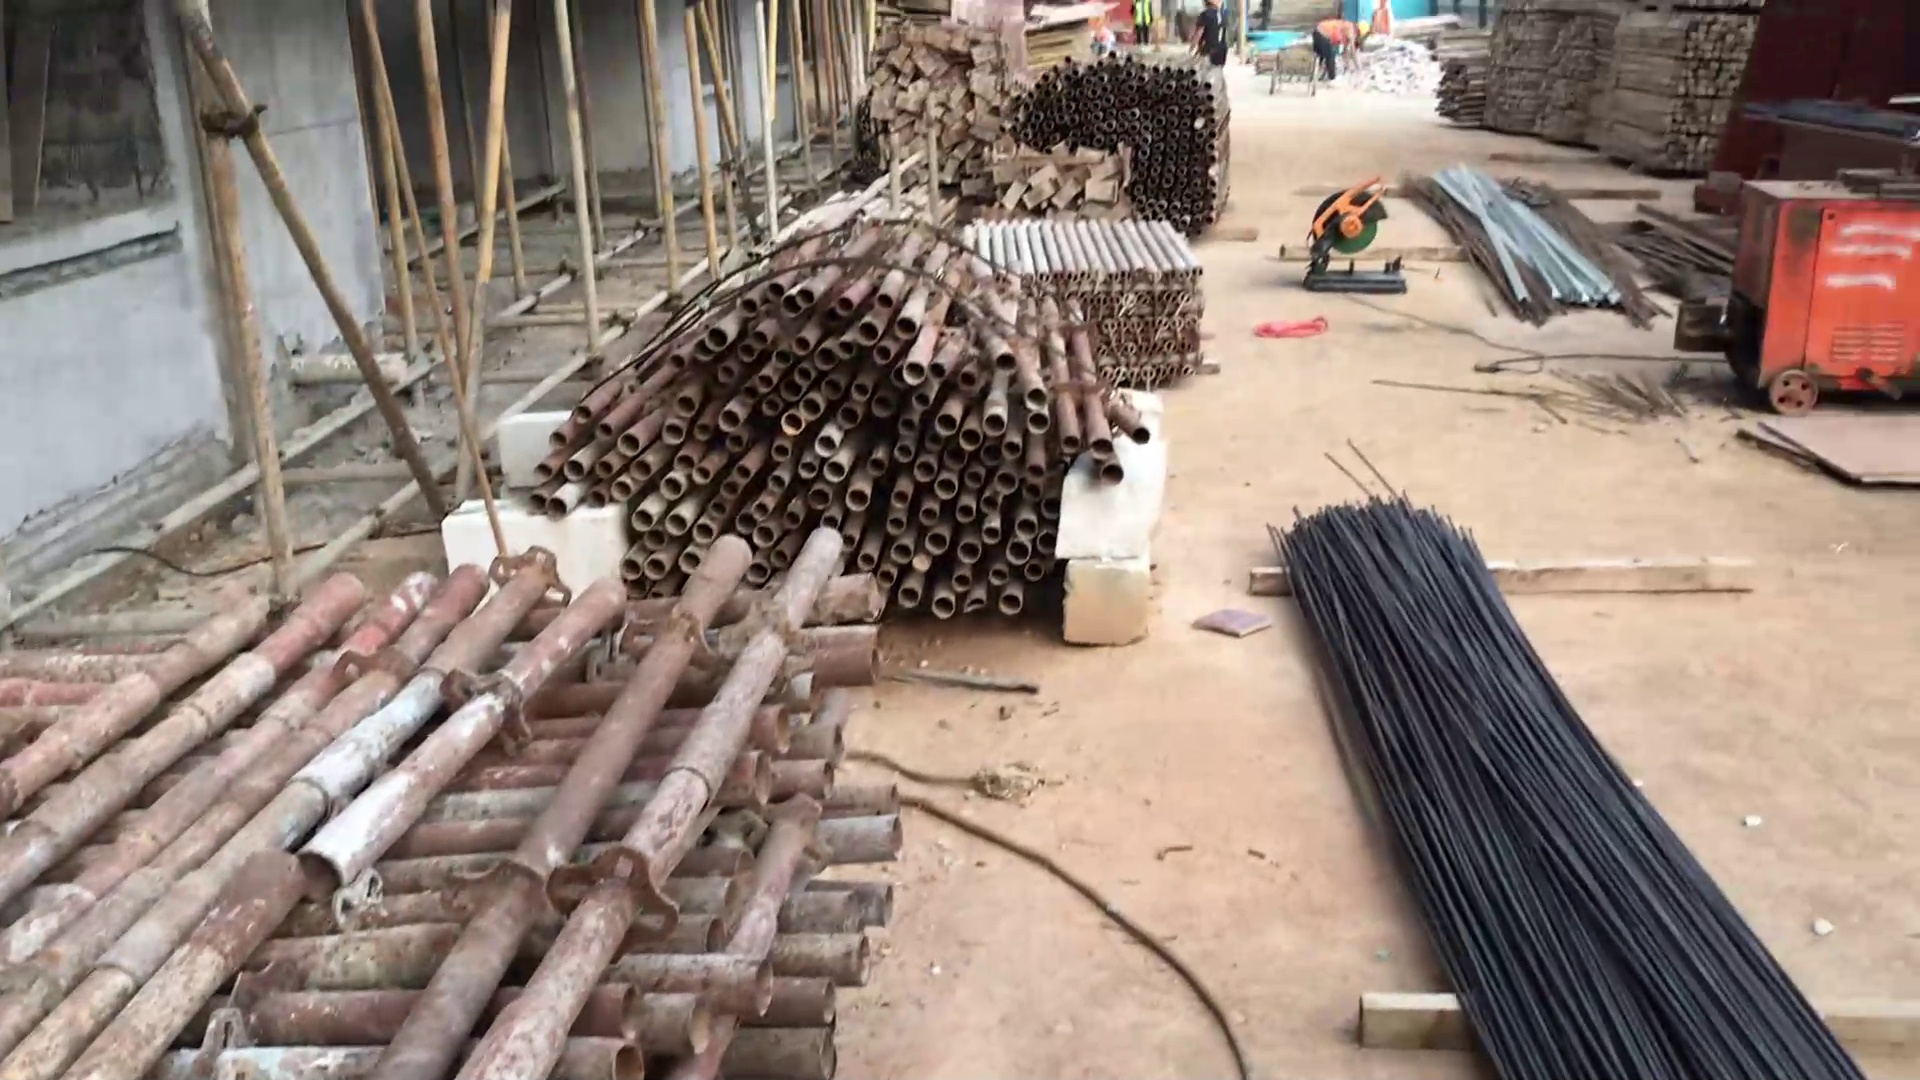cutter: (1274, 171, 1429, 314)
handcart: (1265, 42, 1327, 98)
rebar: (1267, 443, 1866, 1080)
scaffold: (5, 524, 907, 1080), (526, 212, 1160, 626), (963, 202, 1212, 405), (1015, 45, 1244, 236)
wood: (1582, 1, 1767, 177), (1474, 1, 1630, 152)
